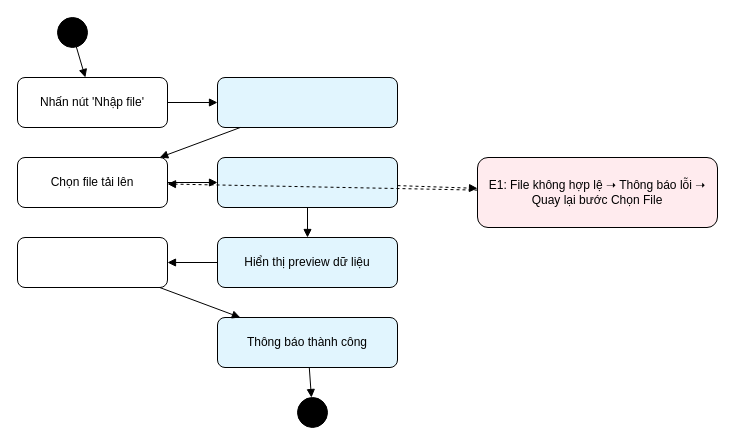
Image size: 735x445. Some labels were removed from this diagram. The shapes that lost their labels are listed below. From the top down, each one's centre as x and y in pixels, then its label:
At [307,102]: "Hiển thị modal chọn file".
At [307,182]: "Kiểm tra file hợp lệ".
At [92,262]: "Bấm nút 'Hoàn thành'".
